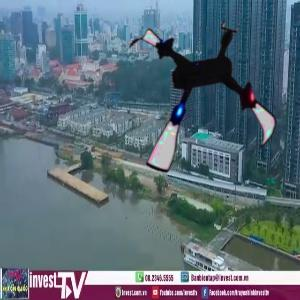drone: (111, 12, 286, 187)
